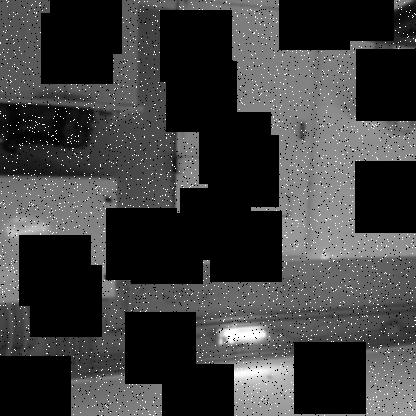Porte: (171, 1, 324, 267)
